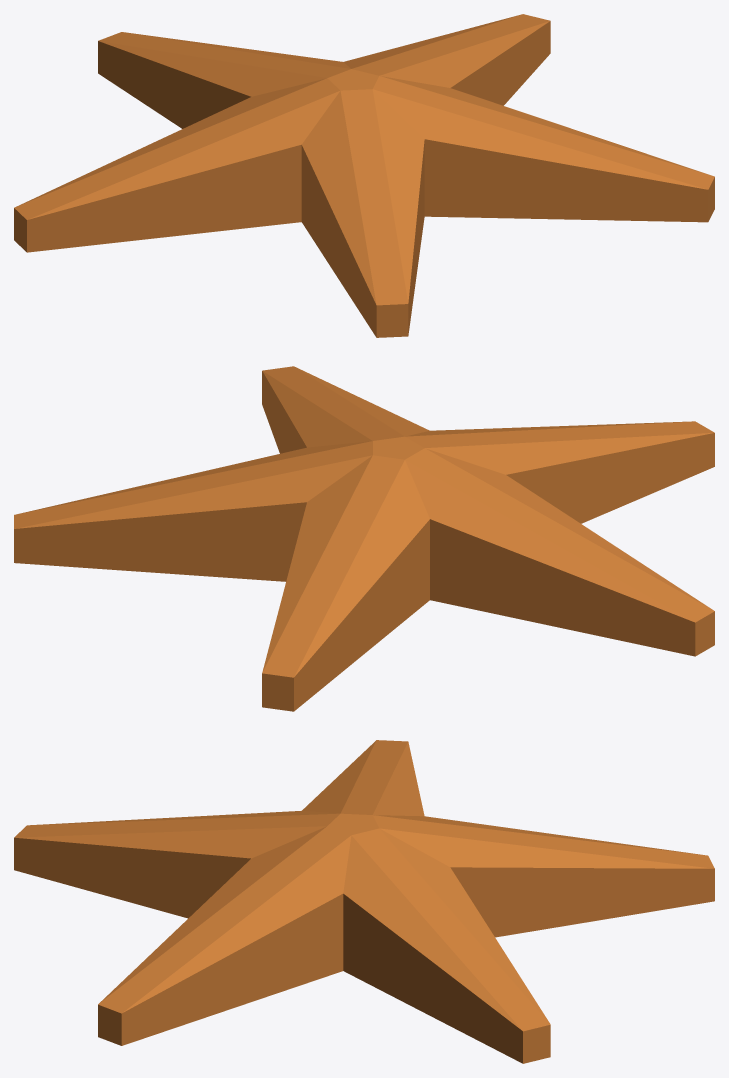
The model's file is Starfish2.fbx.
The picture shows the model from 3 angles, top to bottom: view 1: azimuth 30°, elevation 25°; view 2: azimuth 150°, elevation 25°; view 3: azimuth 270°, elevation 25°; orthographic projection. The views are drawn at different scales.
Visible parts, largest first — view 1: Starfish2; view 2: Starfish2; view 3: Starfish2.
Boxes of the visible parts, <box> form: Starfish2: <box>14,14,714,337</box>; Starfish2: <box>14,366,714,711</box>; Starfish2: <box>14,740,714,1063</box>.
Size of the model in its own units: 0.768 by 0.1267 by 0.7808.
